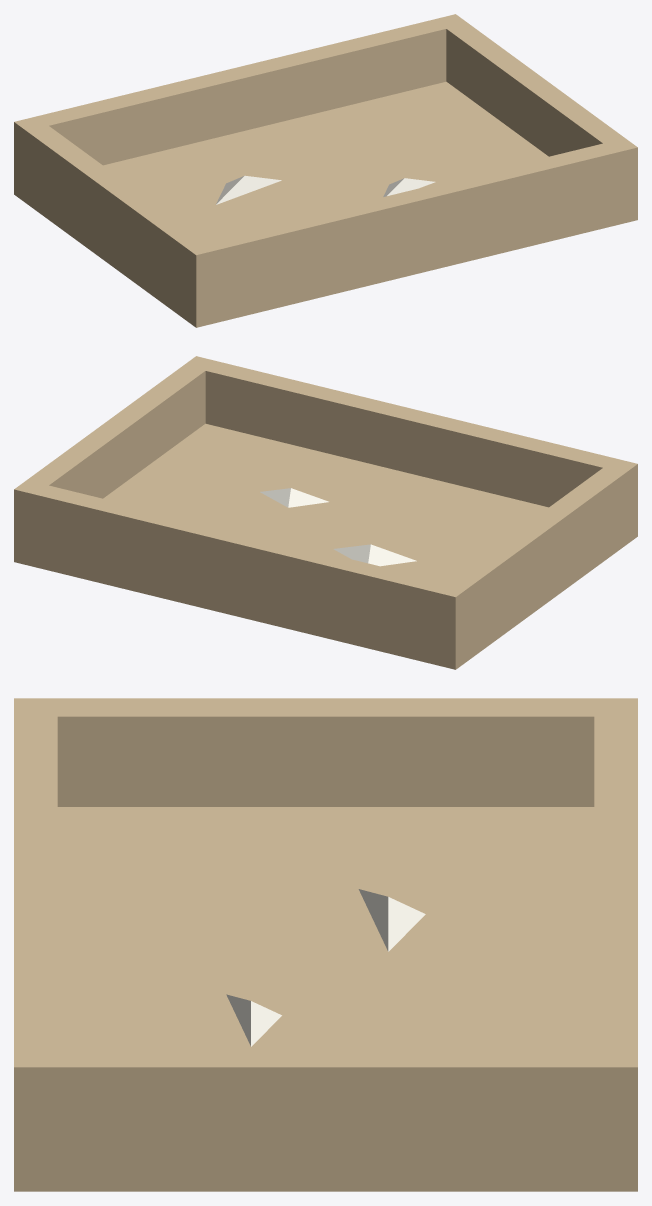
The model's file is prop-quill-scrap-tray-qc1.fbx.
3 views of the same model, one above another, from view 1: azimuth 30°, elevation 25°; view 2: azimuth 150°, elevation 25°; view 3: azimuth 270°, elevation 25° (orthographic). The views are drawn at different scales.
Visible parts, largest first — view 1: prop-quill-scrap-tray-qc1; view 2: prop-quill-scrap-tray-qc1; view 3: prop-quill-scrap-tray-qc1.
Boxes of the visible parts, x1,y1,x2,y2 form: prop-quill-scrap-tray-qc1: (14,14,637,327); prop-quill-scrap-tray-qc1: (14,356,637,669); prop-quill-scrap-tray-qc1: (14,698,637,1191).
Bounding box in the file's own units: 14 × 2.2 × 10.
